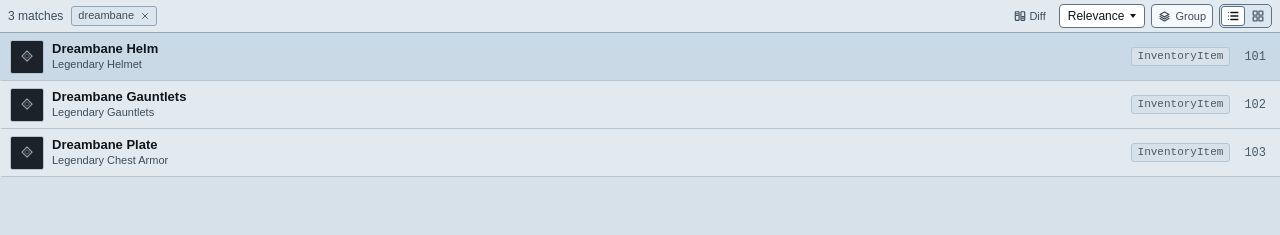
it: Diff controls stay behind the Diff tab gate › renders only the Open Diff shortcut (no per-row or banner controls) while Diff tab is closed
Click the button "Diff" at (1030, 16), box x1=1007 y1=4 x2=1053 y2=28
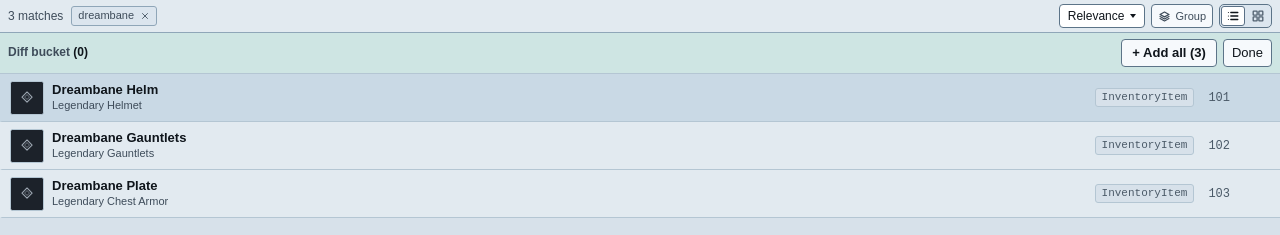
Now the message "Diff bucket (0) + Add all (3) Done" is shown, box x1=0 y1=33 x2=1279 y2=74
